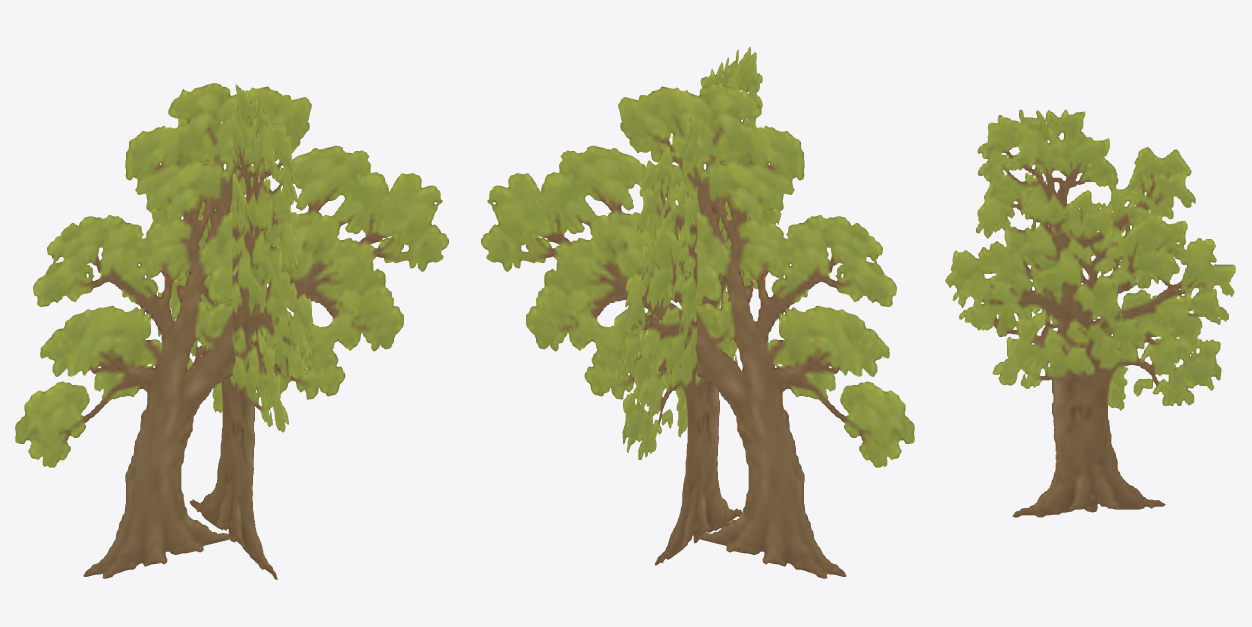
Rendered from tree-4-far.glb.
3 renders of one model, left to right at view 1: azimuth 30°, elevation 25°; view 2: azimuth 150°, elevation 25°; view 3: azimuth 270°, elevation 25°, orthographic. The views are drawn at different scales.
Size of the model in its own units: 0.9595 by 0.9995 by 0.6431.
Materials: 1 (1 with a texture image).
